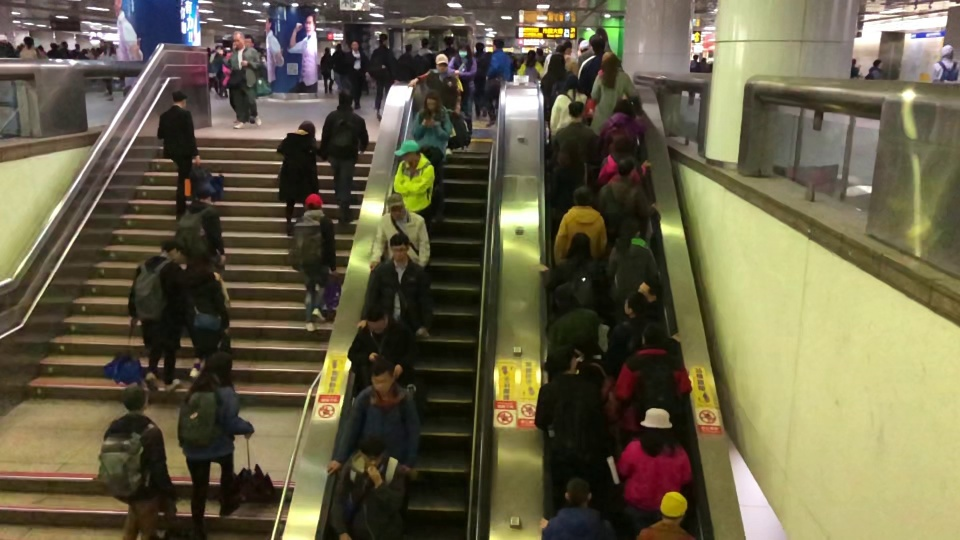person_head: (638, 405, 675, 436), (659, 489, 689, 524), (358, 433, 387, 469), (368, 357, 396, 394), (564, 474, 594, 508), (204, 350, 233, 380), (623, 290, 651, 321), (599, 48, 621, 87), (548, 348, 577, 377), (608, 133, 637, 161), (122, 385, 149, 414), (364, 304, 389, 335), (558, 139, 586, 166), (570, 329, 595, 359), (393, 139, 420, 166), (554, 280, 576, 313), (636, 274, 661, 303), (641, 320, 666, 349), (567, 232, 591, 261), (186, 243, 212, 268), (389, 231, 409, 263), (160, 238, 183, 265), (386, 191, 406, 221), (619, 215, 642, 240), (571, 182, 594, 206), (613, 96, 636, 119), (195, 184, 216, 206), (423, 88, 442, 112), (567, 100, 585, 124), (547, 51, 565, 73), (304, 191, 323, 211), (617, 156, 636, 176), (170, 89, 188, 109), (435, 51, 449, 73), (297, 120, 316, 136), (338, 88, 354, 107), (562, 73, 579, 90), (590, 35, 605, 54), (458, 41, 471, 60), (233, 30, 245, 50), (940, 43, 954, 60), (492, 38, 505, 52), (23, 35, 34, 49), (579, 40, 590, 53), (244, 34, 254, 48), (378, 32, 388, 46), (536, 46, 545, 61), (564, 40, 573, 55), (443, 35, 454, 47), (104, 39, 114, 52), (527, 48, 535, 64), (554, 44, 564, 55), (229, 40, 238, 52), (420, 36, 429, 48), (350, 40, 360, 50), (404, 42, 413, 53), (873, 57, 882, 68), (476, 42, 485, 52), (850, 56, 857, 67), (335, 41, 342, 51), (691, 52, 698, 62), (700, 54, 707, 64), (324, 47, 330, 54)
person_vbox: (127, 240, 222, 395), (178, 351, 255, 540), (95, 383, 177, 540), (328, 359, 420, 482), (327, 435, 418, 540), (367, 192, 431, 337), (533, 349, 614, 463), (612, 323, 692, 438), (616, 405, 692, 522), (170, 240, 232, 380), (355, 232, 426, 348), (319, 89, 370, 226), (289, 193, 337, 333), (347, 304, 418, 398), (537, 231, 608, 322), (608, 290, 682, 375), (605, 215, 661, 318), (595, 156, 658, 247), (408, 54, 464, 156), (410, 91, 453, 221), (157, 89, 201, 216), (275, 120, 320, 236), (539, 478, 620, 540), (570, 329, 621, 426), (545, 282, 604, 363), (552, 186, 607, 269), (589, 51, 640, 136), (219, 30, 263, 128), (393, 139, 436, 239), (175, 188, 226, 268), (549, 141, 600, 220), (552, 101, 598, 185), (598, 96, 647, 165), (633, 490, 700, 540), (595, 135, 651, 192), (549, 72, 590, 145), (578, 35, 623, 101), (447, 42, 478, 137), (483, 37, 512, 128), (539, 54, 578, 121), (369, 32, 395, 121), (343, 41, 370, 110), (96, 41, 120, 102), (473, 41, 491, 118), (222, 40, 238, 123), (932, 40, 960, 87), (517, 48, 544, 82), (396, 42, 416, 84), (414, 36, 434, 77), (319, 46, 335, 94), (331, 43, 347, 91), (688, 49, 701, 108), (864, 57, 889, 81), (562, 40, 579, 75), (18, 37, 40, 61), (848, 56, 864, 79), (699, 53, 713, 73)
